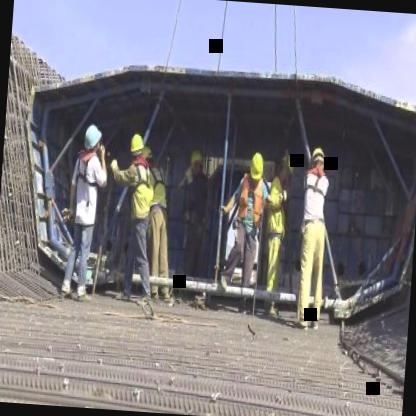helmet: (82, 124, 104, 157), (246, 149, 266, 183), (308, 144, 326, 176), (130, 133, 146, 162), (188, 150, 203, 174)
